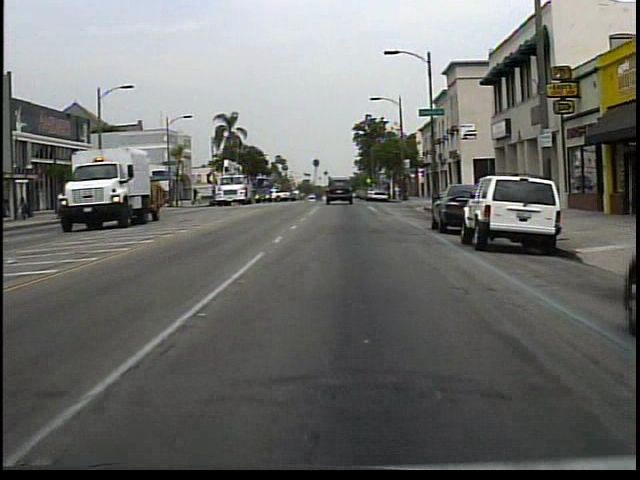person: (22, 193, 32, 222)
